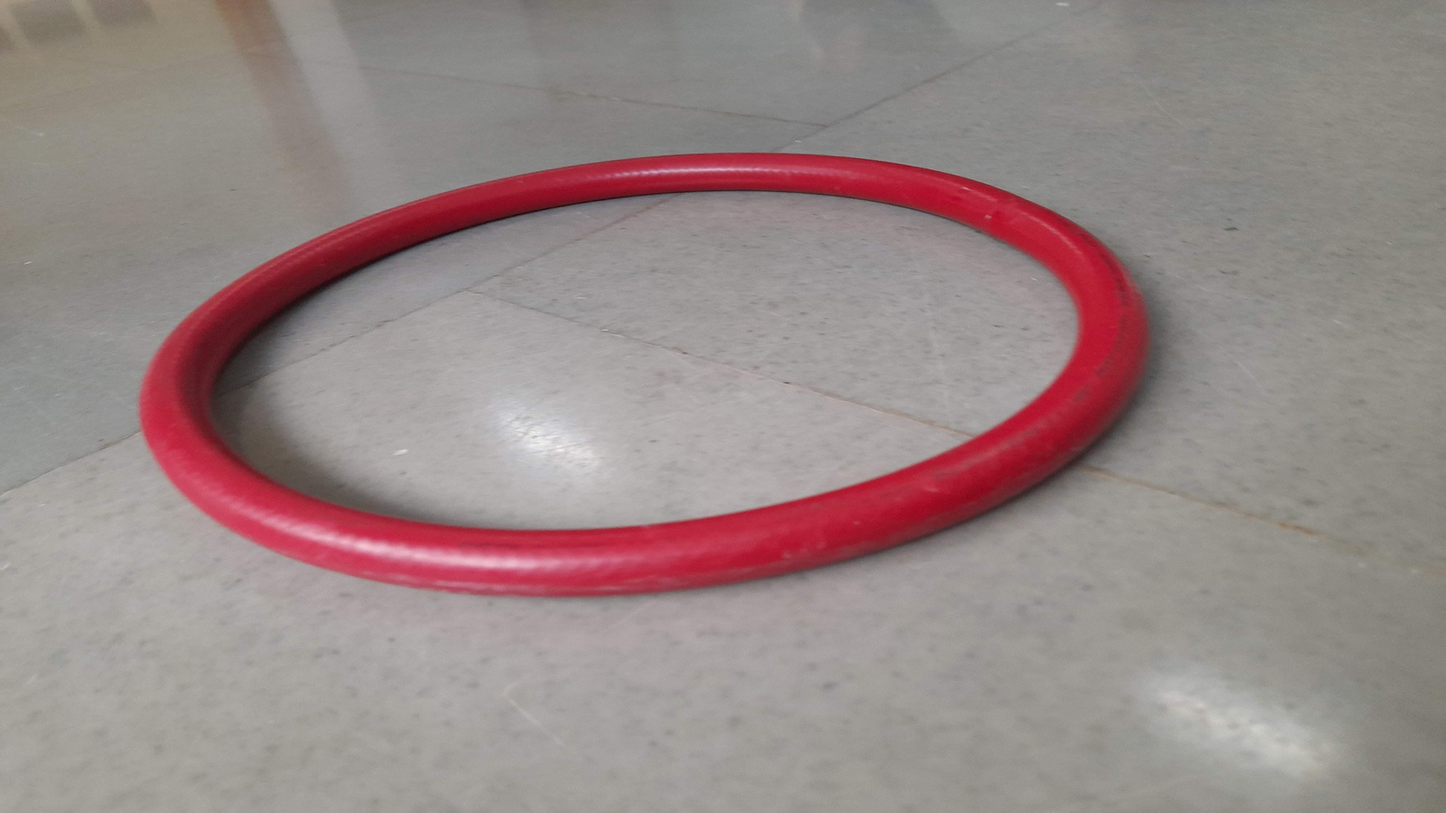Red ring: (143, 151, 1148, 590)
